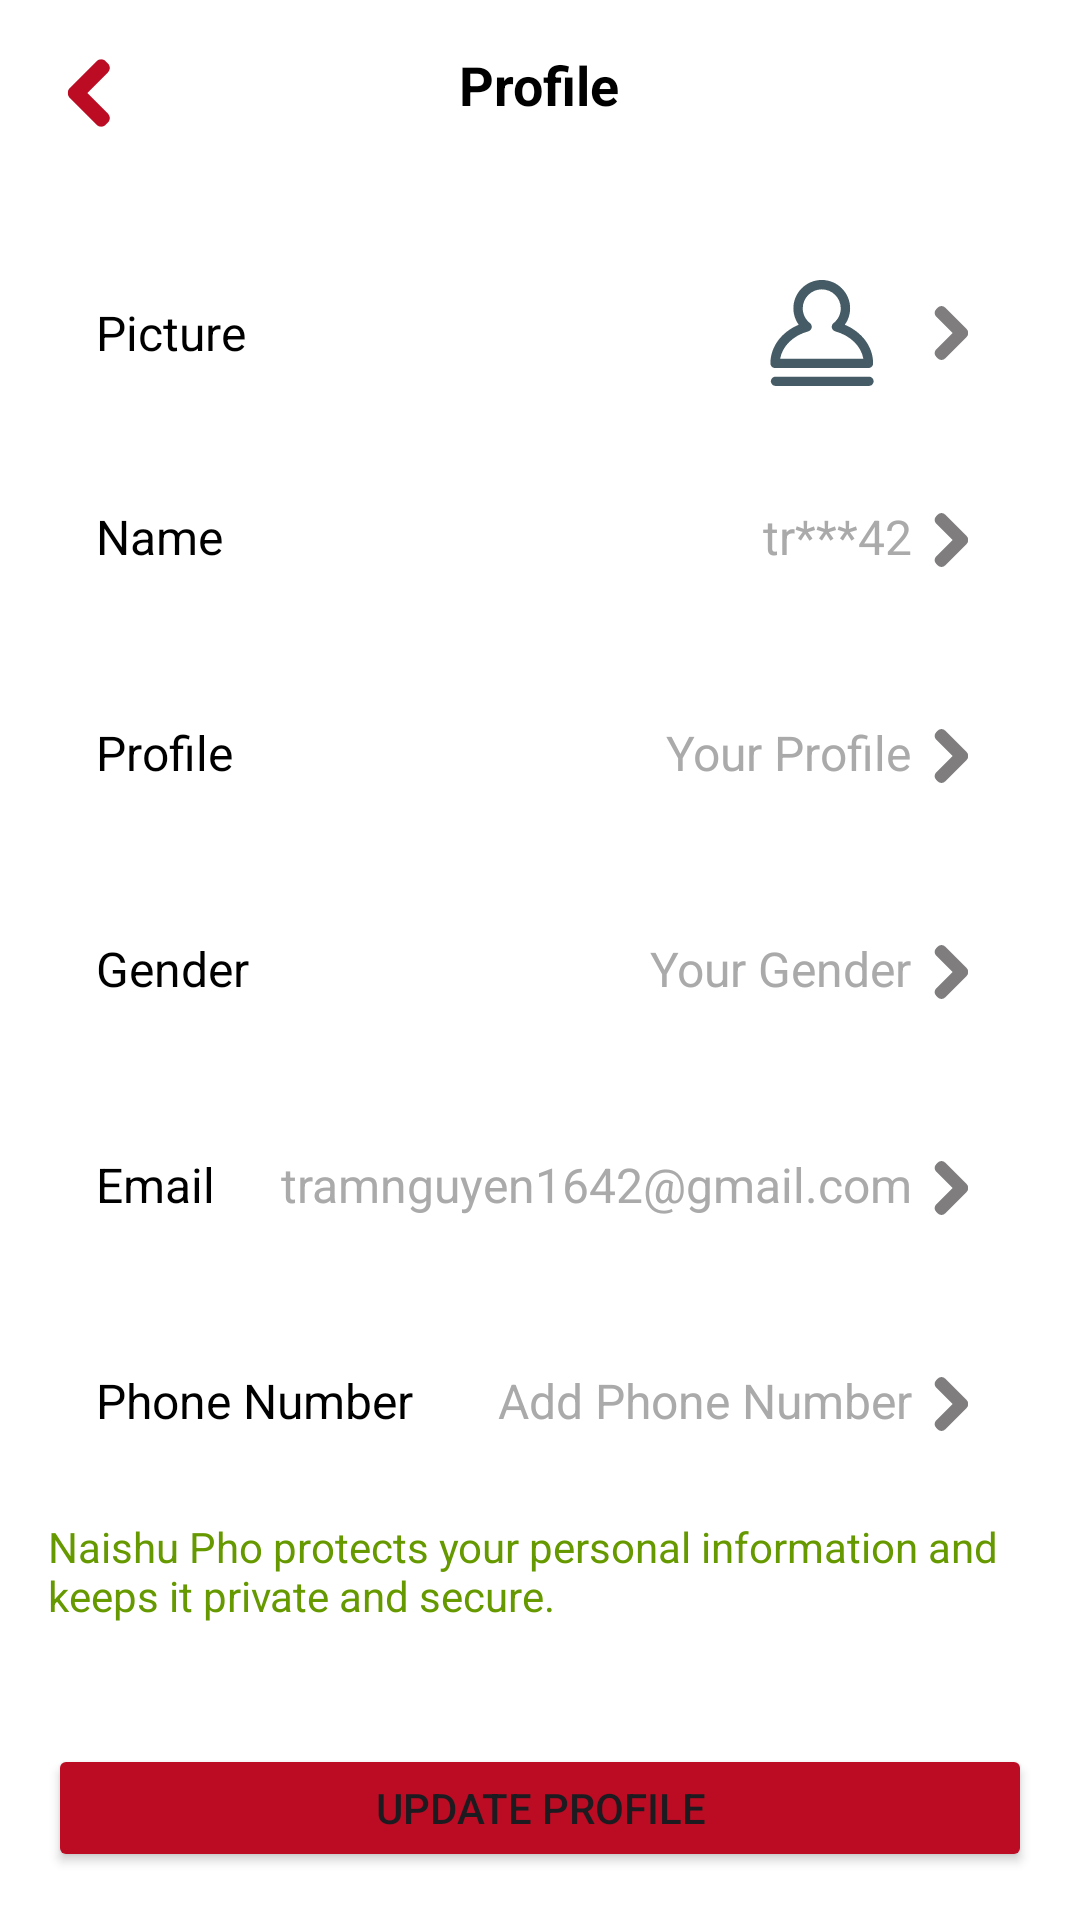

Where icons sit on this 1080*1920 app screen, as region(x1, y1, x2, y2):
arrow left: region(68, 59, 110, 127)
next: region(934, 306, 968, 360), region(934, 513, 968, 567), region(934, 729, 968, 783), region(934, 945, 968, 999), region(934, 1161, 968, 1215), region(934, 1377, 968, 1431)
